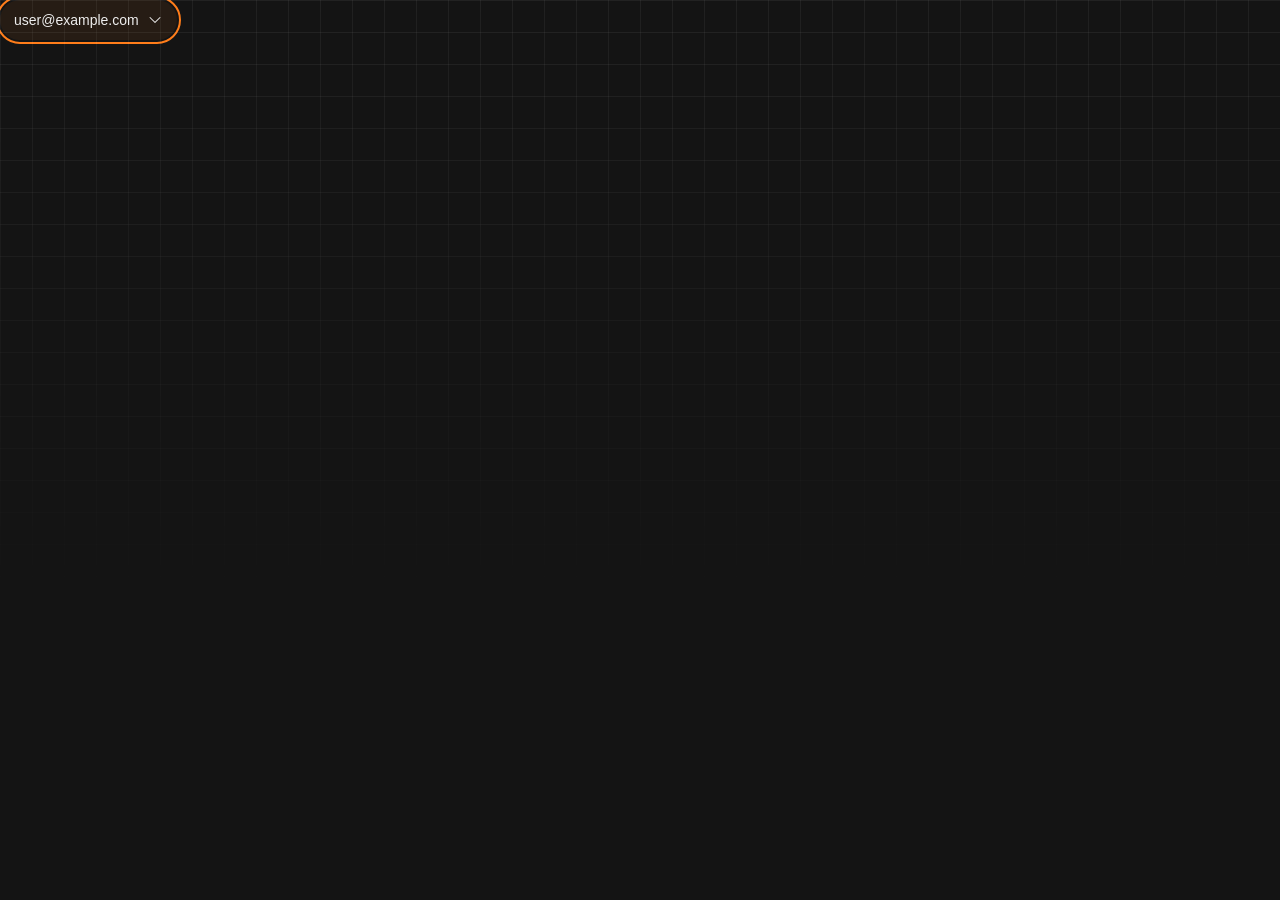
it: UserMenu › About からアプリの説明と TMDB attribution を確認できる
Press Enter
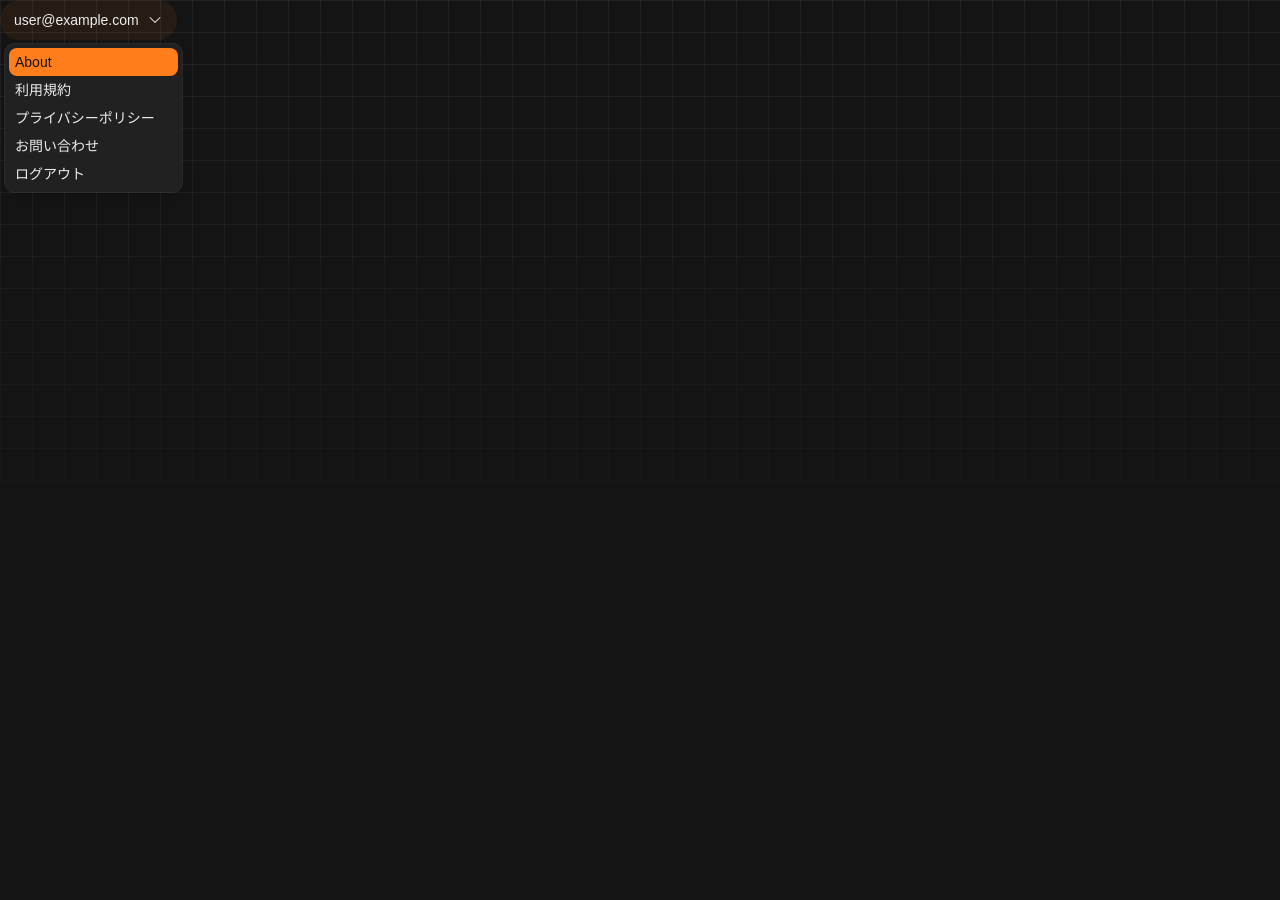
Click the menu item "About" at (94, 62), box [9,48,178,76]
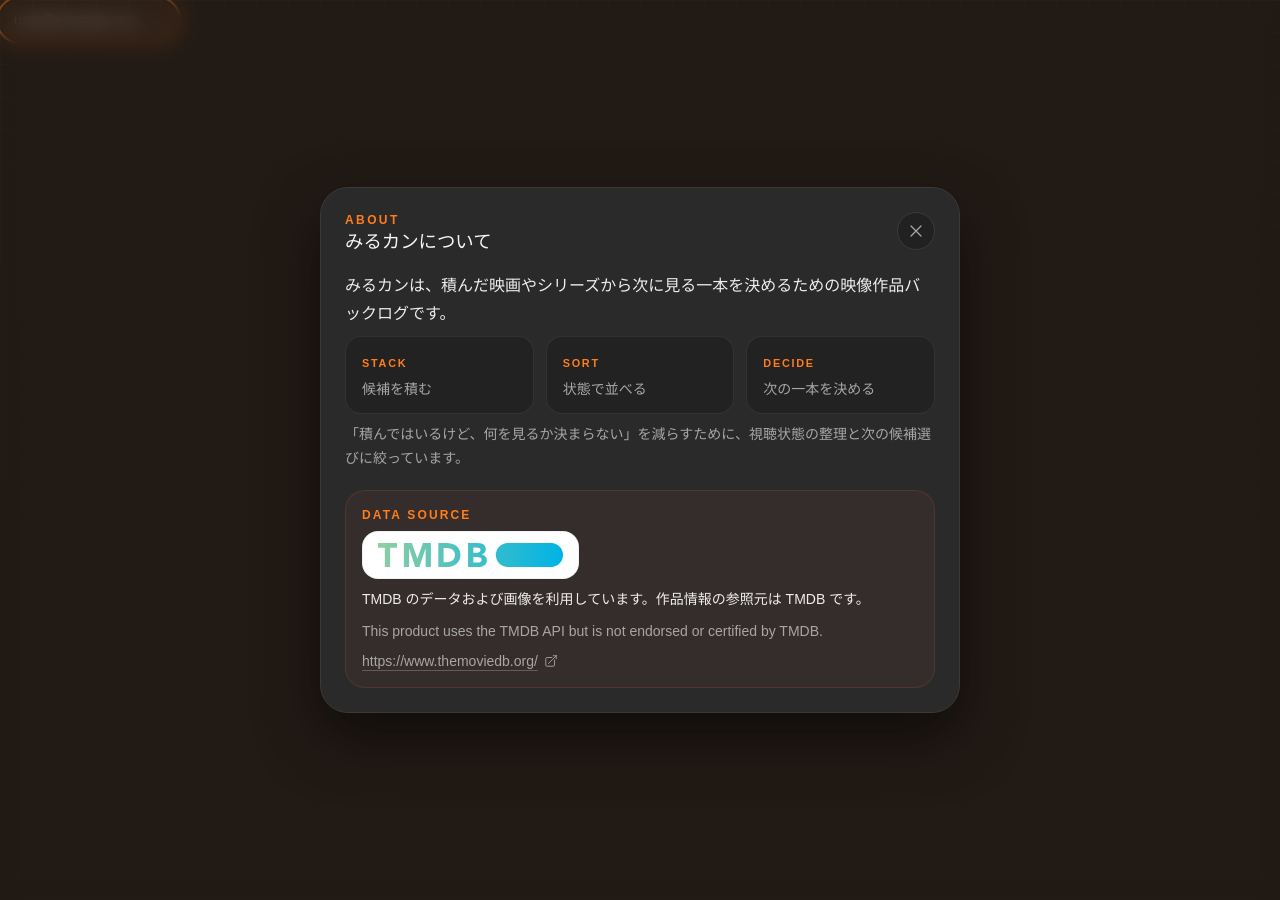
Now the dialog "みるカンについて" is shown, box [320,187,960,713]
Now the text "みるカンは、積んだ映画やシリーズから次に見る一本を決めるための映像作品バックログです。" is shown, box [345,272,935,328]
Now the text "候補を積む" is shown, box [362,381,432,397]
